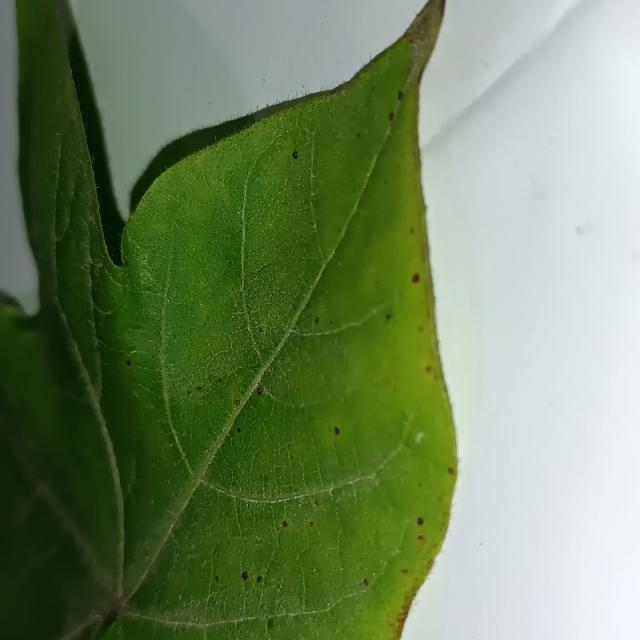Bacterial_Blight: (384, 506, 441, 628), (230, 383, 266, 416), (408, 6, 438, 42), (94, 614, 121, 638), (406, 267, 423, 288), (412, 510, 428, 532), (330, 423, 344, 441), (253, 382, 264, 397), (106, 612, 119, 624), (396, 612, 406, 624), (266, 617, 275, 629), (260, 473, 268, 483), (291, 150, 299, 159), (362, 578, 370, 587), (397, 90, 404, 100), (145, 541, 152, 551), (241, 572, 248, 581), (330, 89, 339, 96), (281, 520, 288, 528), (448, 466, 455, 474), (388, 112, 395, 120), (386, 313, 393, 321), (576, 226, 583, 234), (125, 359, 132, 366), (257, 576, 263, 584), (236, 426, 242, 433), (309, 520, 315, 527), (401, 568, 408, 574), (409, 227, 415, 234), (425, 365, 431, 372), (196, 385, 204, 390), (258, 327, 264, 333), (418, 326, 424, 332), (315, 317, 320, 324), (235, 399, 240, 406), (314, 499, 319, 506), (245, 207, 250, 214), (231, 286, 236, 292), (356, 132, 361, 138), (144, 553, 149, 559), (86, 157, 91, 163), (215, 576, 219, 582), (218, 377, 222, 383), (290, 455, 294, 460), (217, 365, 221, 370), (182, 627, 186, 632), (292, 186, 296, 190)
Cotton: (0, 0, 456, 639)
